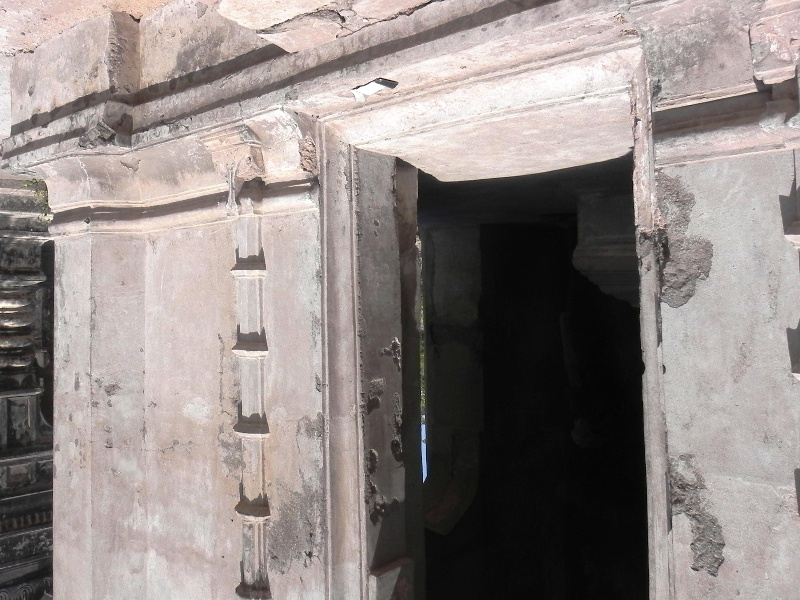Spalling: (658, 456, 730, 582), (632, 217, 723, 315), (360, 374, 391, 528), (292, 130, 322, 180), (383, 331, 410, 368)
